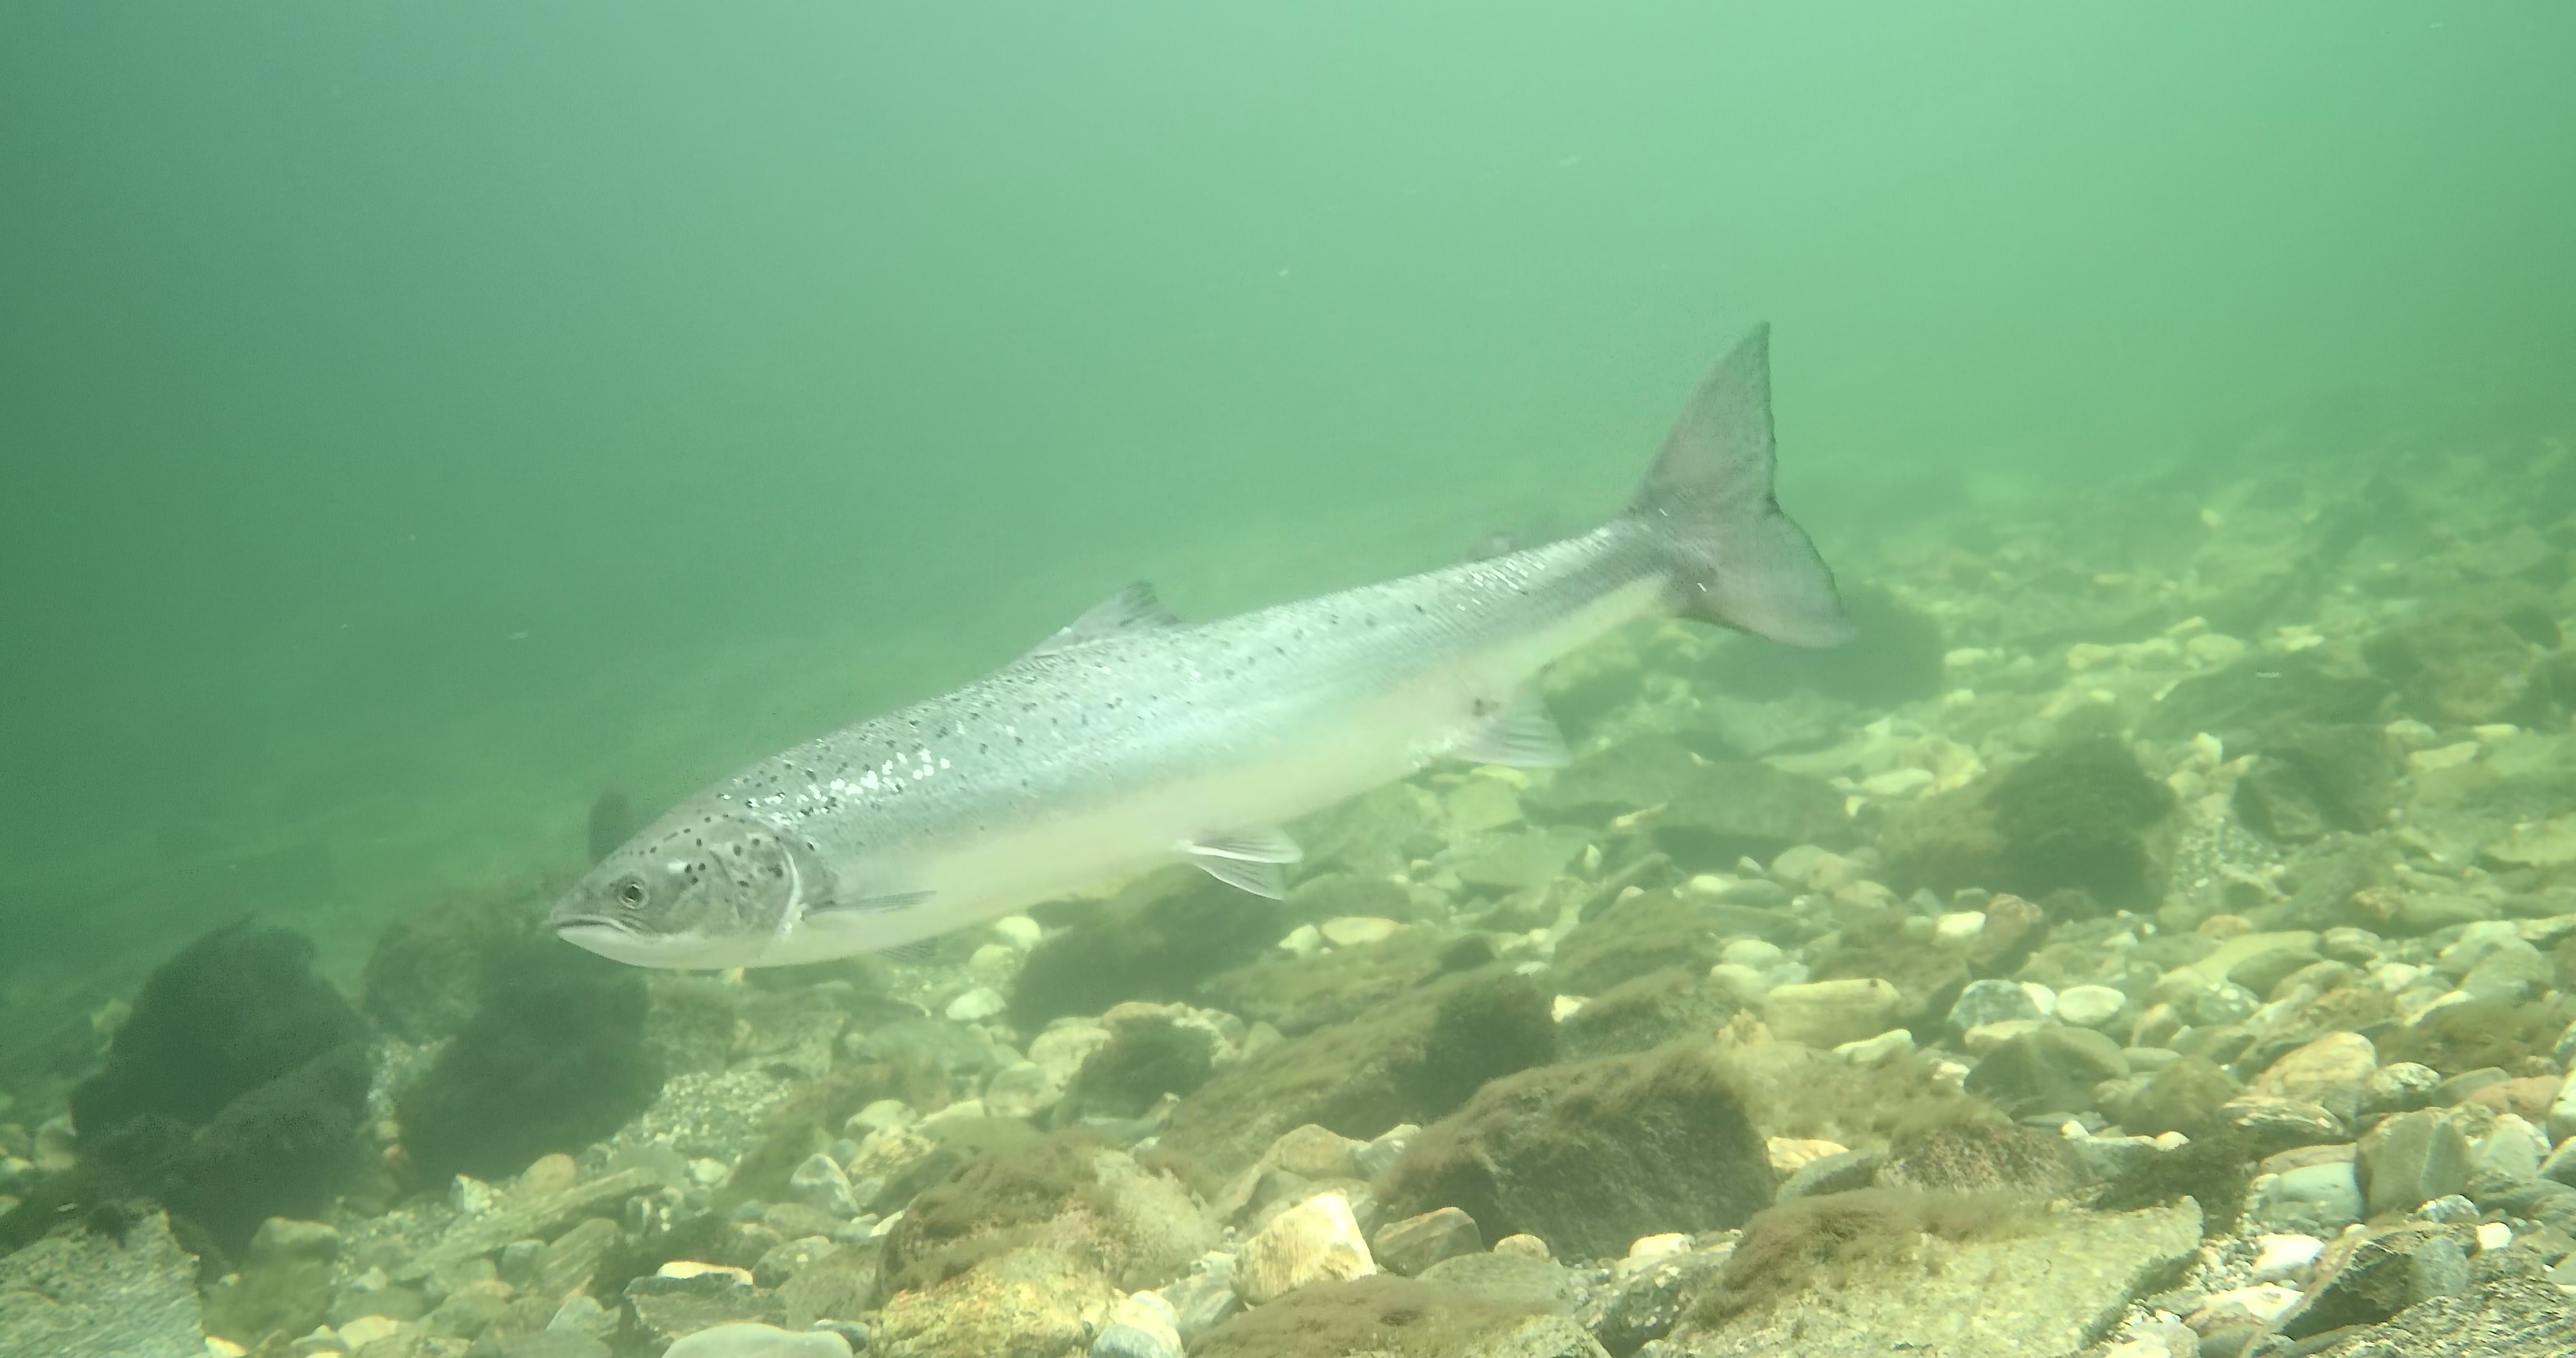salmon: (538, 315, 1869, 976)
